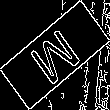M_SE: (24, 21, 86, 89)
